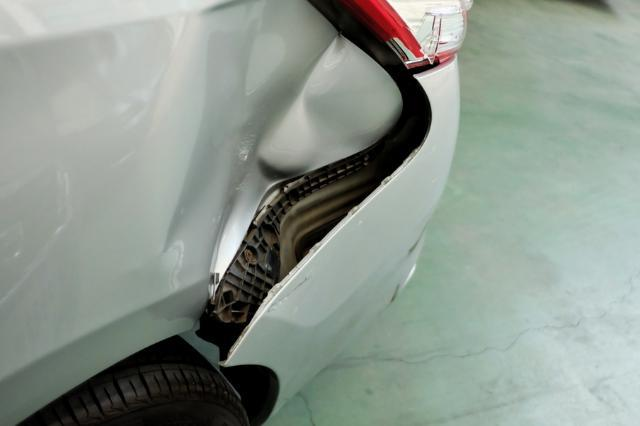Bumper: (227, 32, 483, 331)
